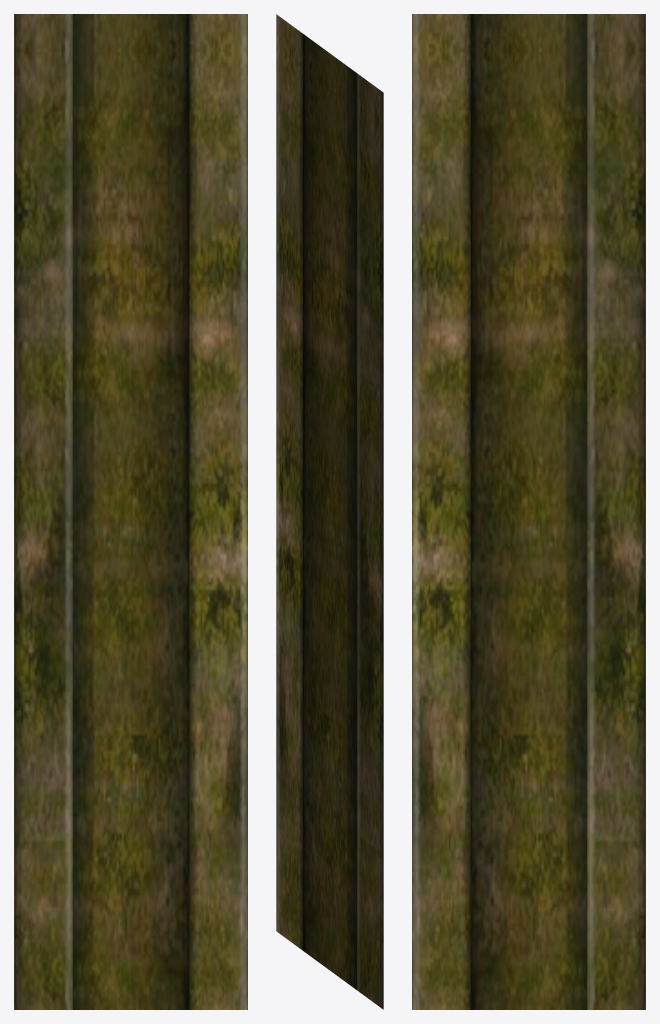
File: OVERHILL_A_01_OBJECT125.fbx
The picture shows the model from 3 angles, left to right: view 1: azimuth 90°, elevation 25°; view 2: azimuth 210°, elevation 25°; view 3: azimuth 270°, elevation 25°; orthographic projection. The views are drawn at different scales.
Parts seen in each view (by area): view 1: OVERHILL_A_01_OBJECT125; view 2: OVERHILL_A_01_OBJECT125; view 3: OVERHILL_A_01_OBJECT125.
Boxes of the visible parts, <box> form: OVERHILL_A_01_OBJECT125: <box>14,14,247,1009</box>; OVERHILL_A_01_OBJECT125: <box>276,14,383,1009</box>; OVERHILL_A_01_OBJECT125: <box>412,14,645,1009</box>.
Bounding box in the file's own units: 0 × 23653 × 5032.
1 material, 1 textured.
